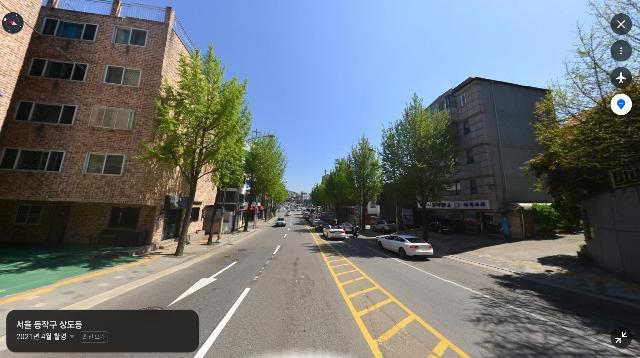other: (518, 0, 640, 233), (140, 41, 254, 257), (377, 91, 465, 242), (236, 131, 289, 233), (336, 132, 381, 231), (316, 157, 350, 222), (261, 163, 286, 222), (309, 176, 328, 218)
